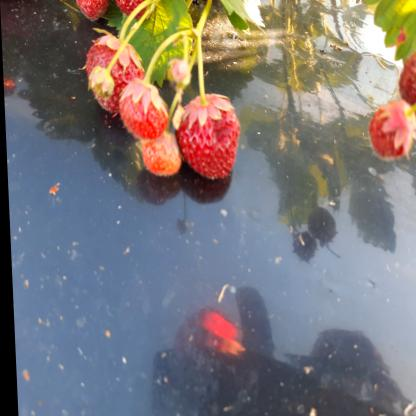ripe: (181, 92, 240, 177), (87, 42, 141, 113), (369, 96, 413, 162), (120, 86, 166, 136), (144, 124, 176, 176)
